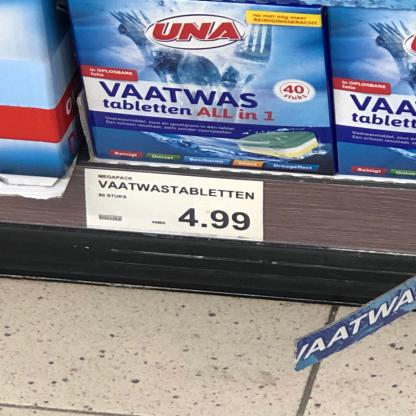prtg: (86, 169, 265, 243)
